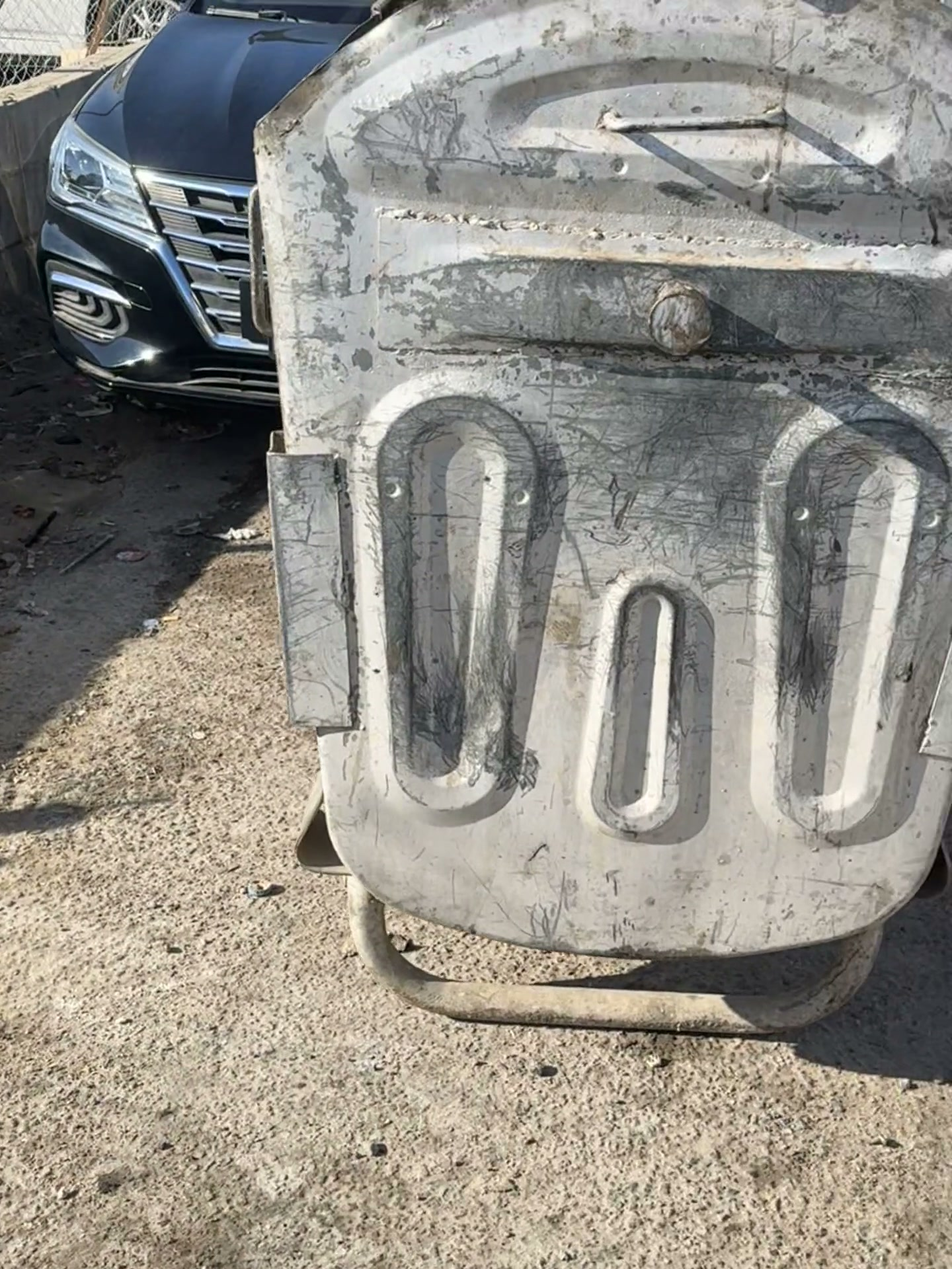trash_container: (235, 13, 934, 1047)
